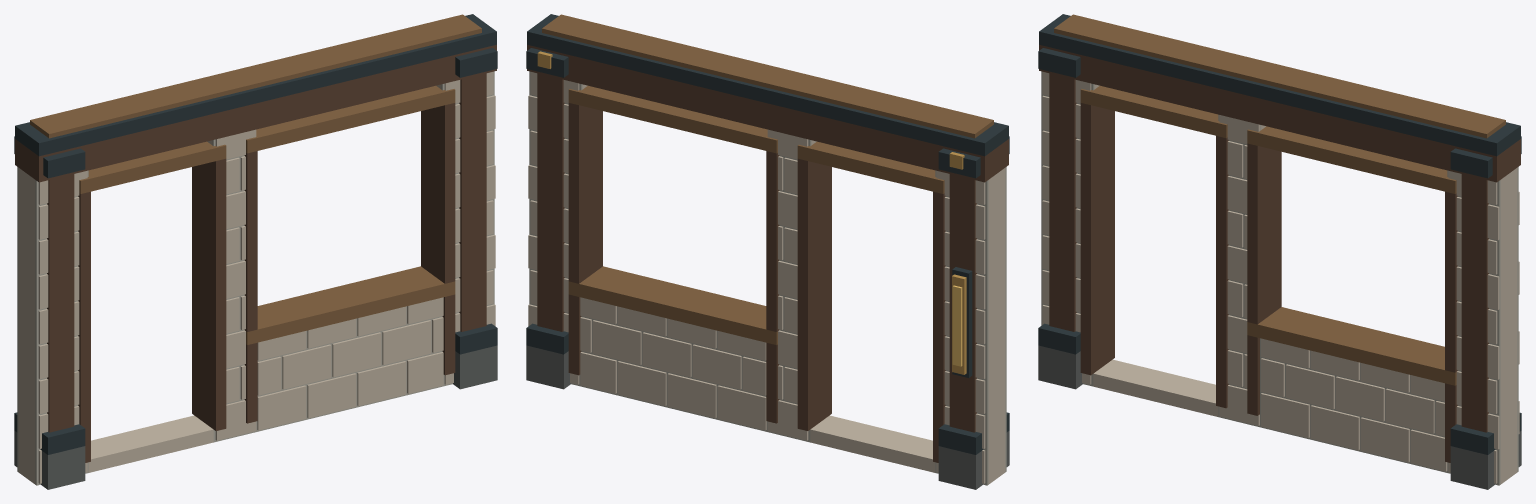
3 views of the same model, side by side, from view 1: azimuth 30°, elevation 25°; view 2: azimuth 150°, elevation 25°; view 3: azimuth 330°, elevation 25° (orthographic).
Parts seen in each view (by area): view 1: 旧楼分段入口及窗洞墙; view 2: 旧楼分段入口及窗洞墙; view 3: 旧楼分段入口及窗洞墙.
Boxes of the visible parts, <box> form: 旧楼分段入口及窗洞墙: <box>14,14,497,489</box>; 旧楼分段入口及窗洞墙: <box>526,14,1009,489</box>; 旧楼分段入口及窗洞墙: <box>1038,14,1521,489</box>.
Bounding box in the file's own units: 4.4 × 3.2 × 0.6.
Materials: 8 (8 with a texture image).
